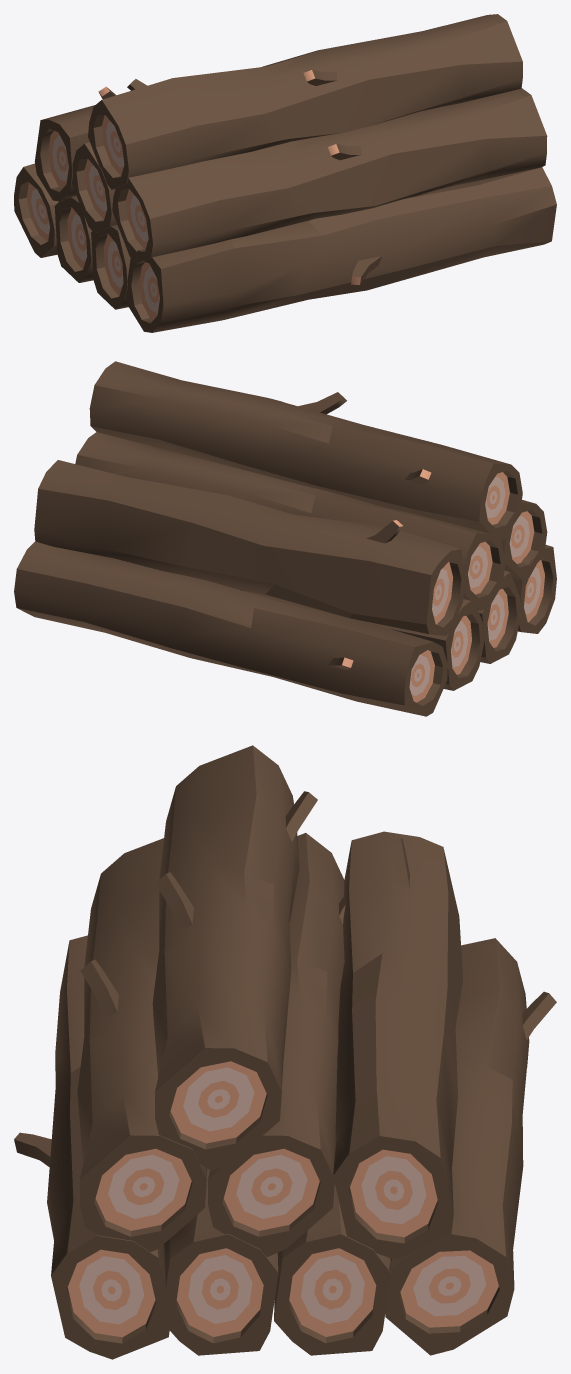
The model's file is stack of logs.fbx.
The picture shows the model from 3 angles, top to bottom: view 1: azimuth 30°, elevation 25°; view 2: azimuth 150°, elevation 25°; view 3: azimuth 270°, elevation 25°; orthographic projection. The views are drawn at different scales.
Visible parts, largest first — view 1: Cylinder.010; view 2: Cylinder.010; view 3: Cylinder.010.
Boxes of the visible parts, left/top/right/bottom form: Cylinder.010: left=14, top=14, right=556, bottom=332; Cylinder.010: left=14, top=361, right=556, bottom=716; Cylinder.010: left=14, top=745, right=556, bottom=1359.
Size of the model in its own units: 1.71 by 0.896 by 1.33.
